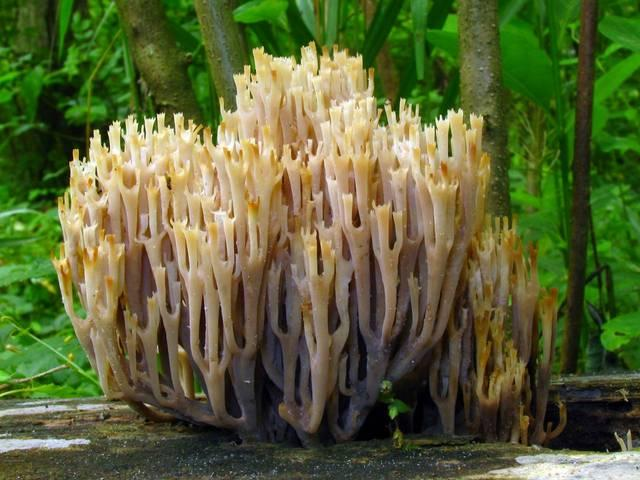edible_mushroom: (51, 39, 565, 448)
